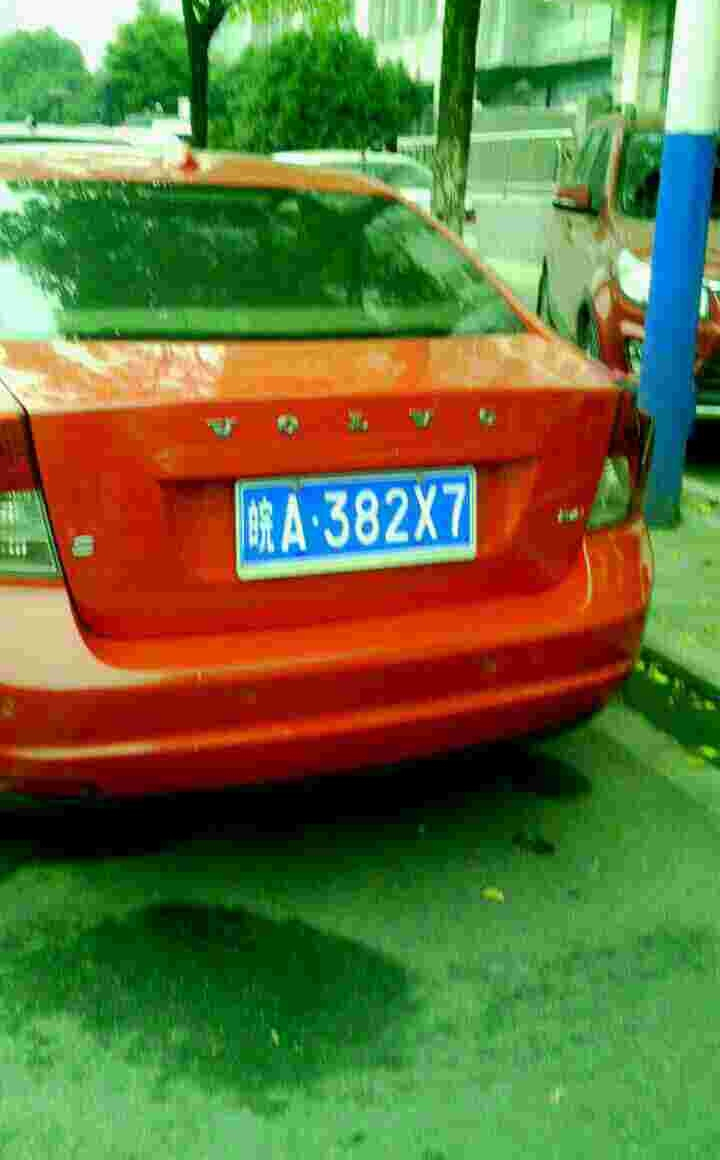car: (232, 483, 478, 566)
